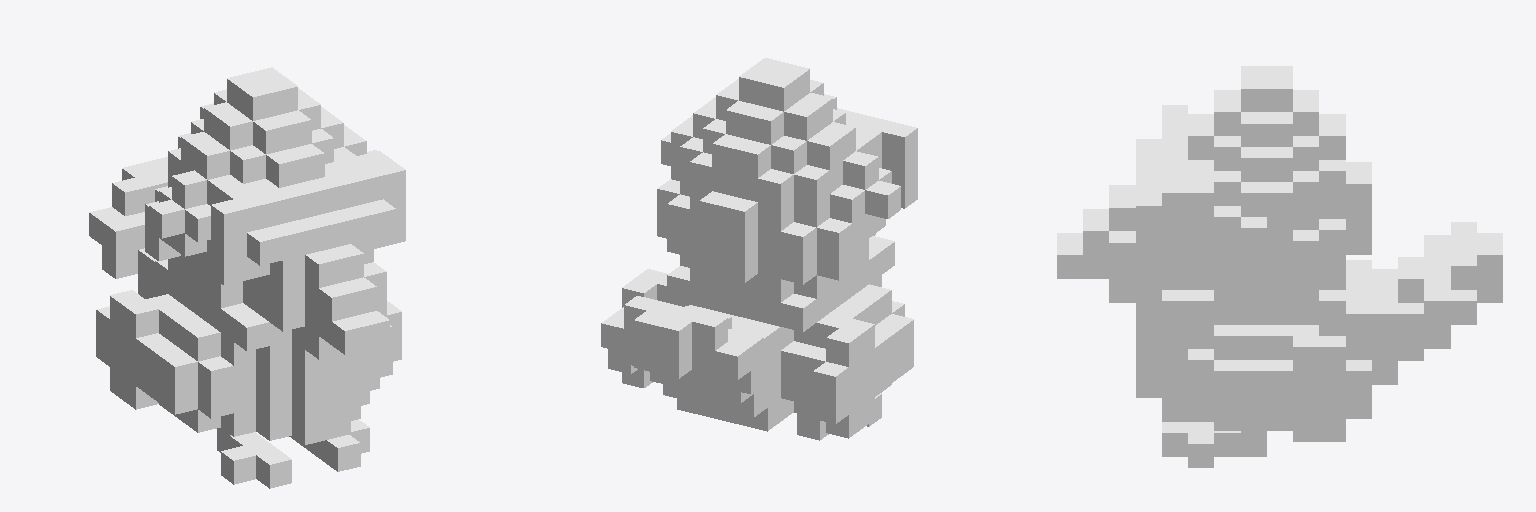
File: tinybird.obj
The picture shows the model from 3 angles: view 1: azimuth 30°, elevation 25°; view 2: azimuth 150°, elevation 25°; view 3: azimuth 270°, elevation 25°; orthographic projection.
Parts seen in each view (by area): view 1: object 1; view 2: object 1; view 3: object 1.
Part boxes in pixels (left/top/right/bottom): object 1: left=89, top=67, right=405, bottom=488; object 1: left=601, top=58, right=917, bottom=440; object 1: left=1057, top=66, right=1502, bottom=467.
Size of the model in its own units: 1 by 1.5 by 1.7.